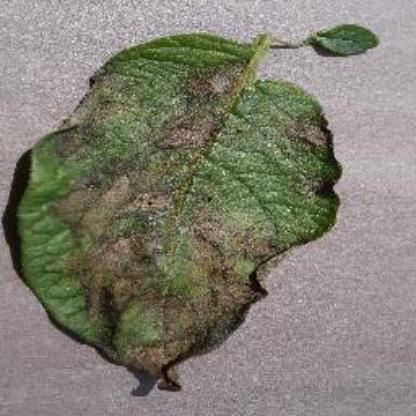Late-Blight: (10, 16, 382, 388)
